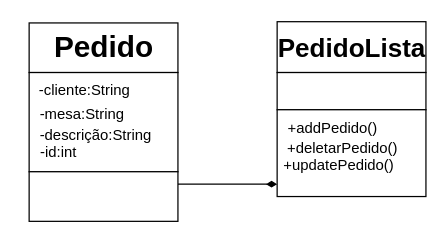
The diagram is 448 pixels wide and 243 high, and some of its shapes have lost their labels. The shapes that lost their labels are listed below. From the top down, each one's box as (x1, y1, x2, y2) in pixels, then its label:
(276, 71, 426, 110): -pedidos:Array
(28, 170, 178, 221): +gerarId()
